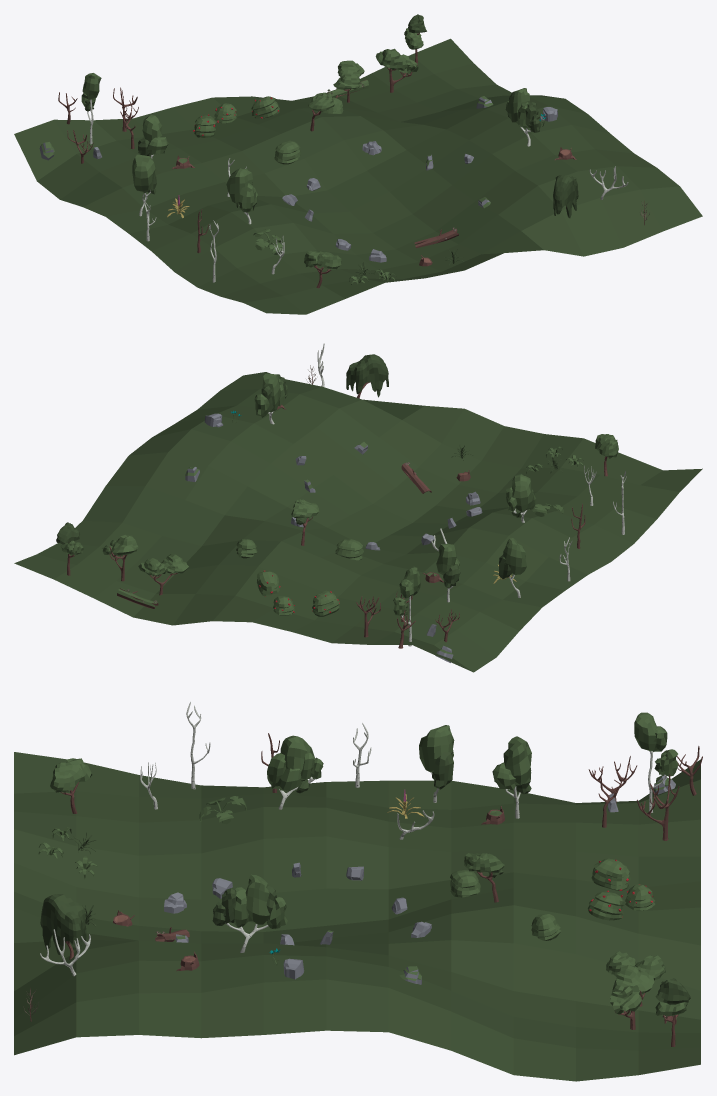
File: MapTutorial.glb
3 views of the same model, one above another, from view 1: azimuth 30°, elevation 25°; view 2: azimuth 150°, elevation 25°; view 3: azimuth 270°, elevation 25° (orthographic). The views are drawn at different scales.
Parts seen in each view (by area): view 1: Floor, BirchTree_4_Cube.070, BirchTree_1_Cube.001, BirchTree_2_Cube.064, BirchTree_3_Cube.065, Willow_1_Cube.010, CommonTree_2_Cube.036, CommonTree_1_Cube.049, CommonTree_5_Cube.014, BirchTree_5_Cube.072, CommonTree_3_Cube.031, Bush_1_Cube.045 (+2 smaller); view 2: Floor, Willow_1_Cube.010, BirchTree_4_Cube.070, BirchTree_1_Cube.001, BirchTree_2_Cube.064, BirchTree_5_Cube.072, BirchTree_3_Cube.065, CommonTree_1_Cube.049, CommonTree_2_Cube.036, CommonTree_3_Cube.031, CommonTree_4_Cube.001, BushBerries_1_Cube.044 (+1 smaller); view 3: Floor, BirchTree_4_Cube.070, BirchTree_1_Cube.001, Willow_1_Cube.010, BirchTree_3_Cube.065, BirchTree_2_Cube.064, BirchTree_5_Cube.072, CommonTree_2_Cube.036, CommonTree_3_Cube.031, CommonTree_5_Cube.014, BushBerries_1_Cube.044, CommonTree_1_Cube.049 (+6 smaller).
Part boxes in pixels (x1=…): Floor: x1=14, y1=38, x2=702, y2=314; BirchTree_4_Cube.070: x1=505, y1=88, x2=541, y2=146; BirchTree_1_Cube.001: x1=226, y1=168, x2=257, y2=224; BirchTree_2_Cube.064: x1=132, y1=154, x2=156, y2=216; BirchTree_3_Cube.065: x1=138, y1=115, x2=168, y2=158; Willow_1_Cube.010: x1=553, y1=175, x2=578, y2=218; CommonTree_2_Cube.036: x1=375, y1=48, x2=418, y2=92; CommonTree_1_Cube.049: x1=333, y1=60, x2=364, y2=102; CommonTree_5_Cube.014: x1=304, y1=251, x2=341, y2=288; BirchTree_5_Cube.072: x1=81, y1=73, x2=101, y2=144; CommonTree_3_Cube.031: x1=404, y1=14, x2=426, y2=65; Bush_1_Cube.045: x1=274, y1=140, x2=300, y2=164; Floor: x1=14, y1=372, x2=702, y2=672; Willow_1_Cube.010: x1=346, y1=354, x2=388, y2=398; BirchTree_4_Cube.070: x1=254, y1=373, x2=287, y2=424; BirchTree_1_Cube.001: x1=506, y1=474, x2=536, y2=522; BirchTree_2_Cube.064: x1=499, y1=538, x2=526, y2=597; BirchTree_5_Cube.072: x1=393, y1=566, x2=420, y2=646; BirchTree_3_Cube.065: x1=436, y1=543, x2=460, y2=602; CommonTree_1_Cube.049: x1=138, y1=553, x2=188, y2=595; CommonTree_2_Cube.036: x1=102, y1=534, x2=138, y2=581; CommonTree_3_Cube.031: x1=56, y1=522, x2=83, y2=575; CommonTree_4_Cube.001: x1=291, y1=499, x2=319, y2=545; BushBerries_1_Cube.044: x1=312, y1=590, x2=339, y2=616; Floor: x1=14, y1=752, x2=700, y2=1081; BirchTree_4_Cube.070: x1=212, y1=874, x2=287, y2=952; BirchTree_1_Cube.001: x1=267, y1=735, x2=323, y2=809; Willow_1_Cube.010: x1=40, y1=894, x2=86, y2=959; BirchTree_3_Cube.065: x1=492, y1=736, x2=531, y2=818; BirchTree_2_Cube.064: x1=419, y1=725, x2=454, y2=802; BirchTree_5_Cube.072: x1=634, y1=712, x2=678, y2=812; CommonTree_2_Cube.036: x1=610, y1=965, x2=654, y2=1029; CommonTree_3_Cube.031: x1=655, y1=978, x2=690, y2=1046; CommonTree_5_Cube.014: x1=50, y1=758, x2=92, y2=813; BushBerries_1_Cube.044: x1=591, y1=858, x2=630, y2=890; CommonTree_1_Cube.049: x1=606, y1=951, x2=665, y2=1006.
Bounding box in the file's own units: 30 × 7.69 × 30.09.
